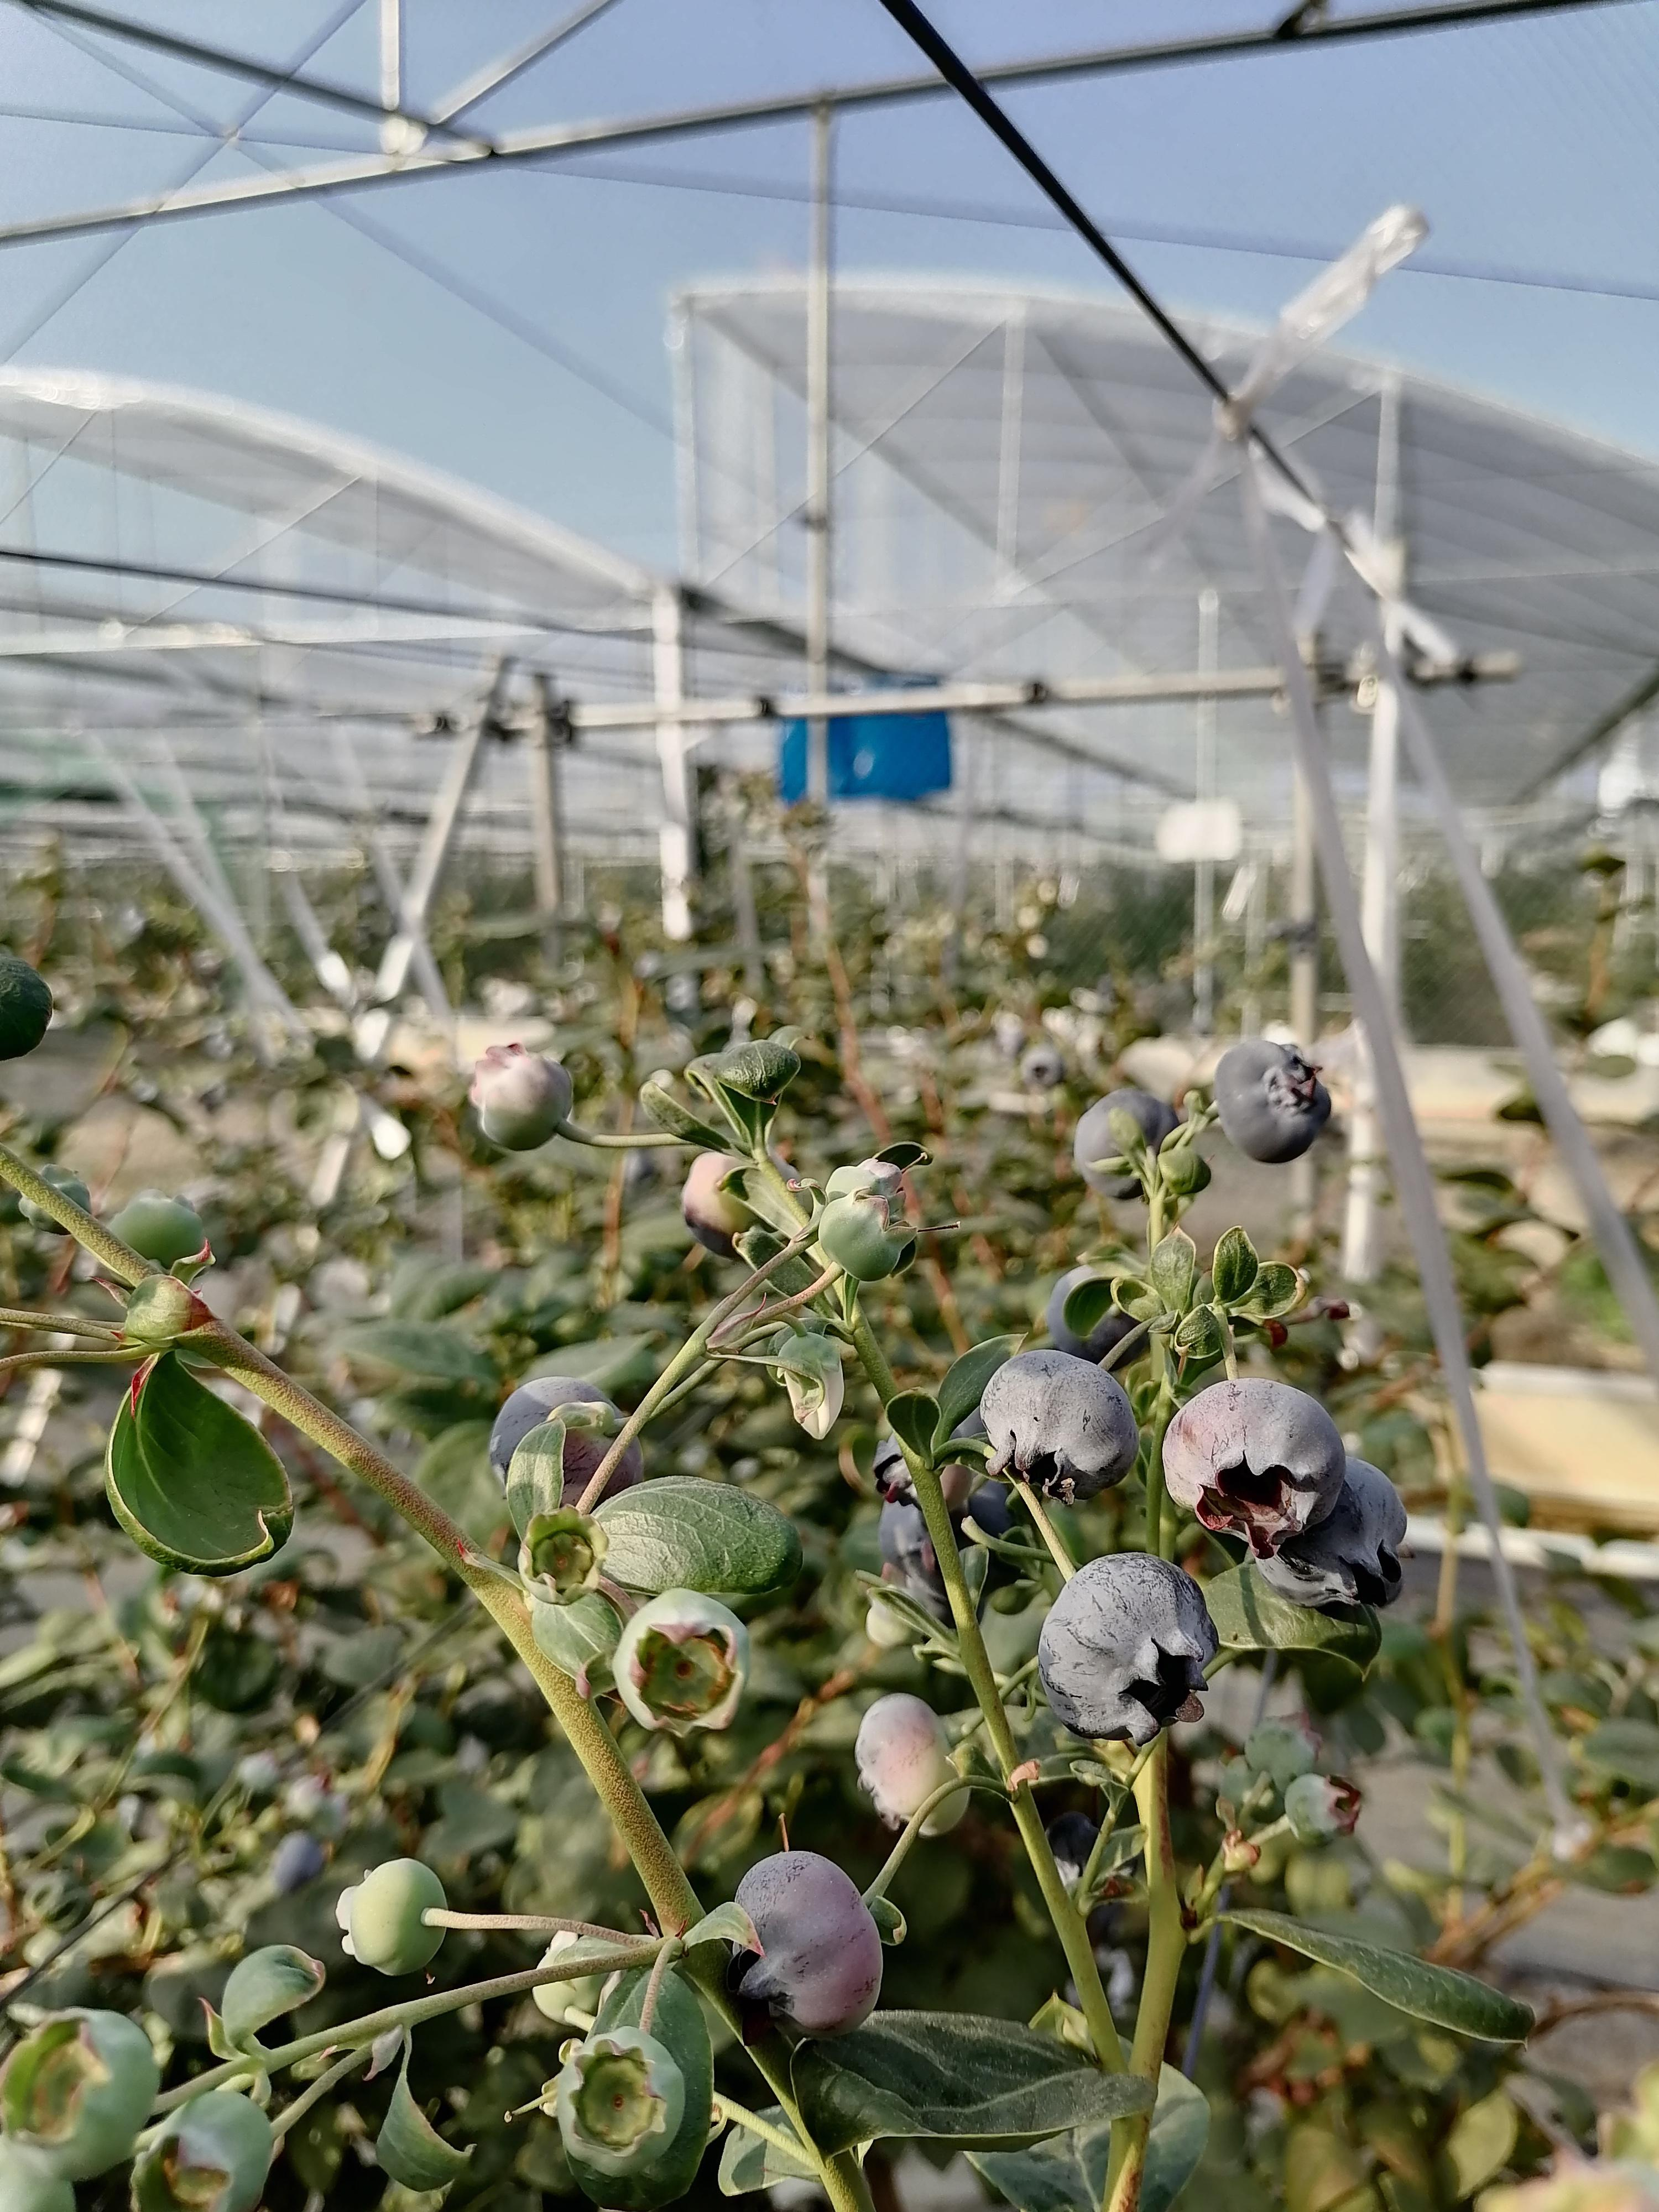ripe-blueberries: (1037, 1552, 1218, 1745), (1162, 1376, 1349, 1559), (728, 1850, 884, 2041), (979, 1350, 1141, 1501), (1256, 1454, 1408, 1609), (880, 1453, 1025, 1601), (484, 1374, 641, 1508), (1215, 1036, 1335, 1165), (1073, 1089, 1180, 1202), (1046, 1264, 1152, 1371), (270, 1831, 326, 1888)
